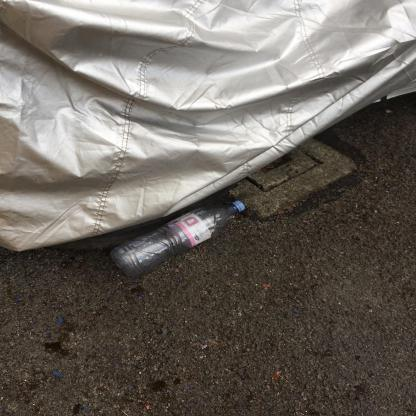plastik: (109, 202, 247, 278)
